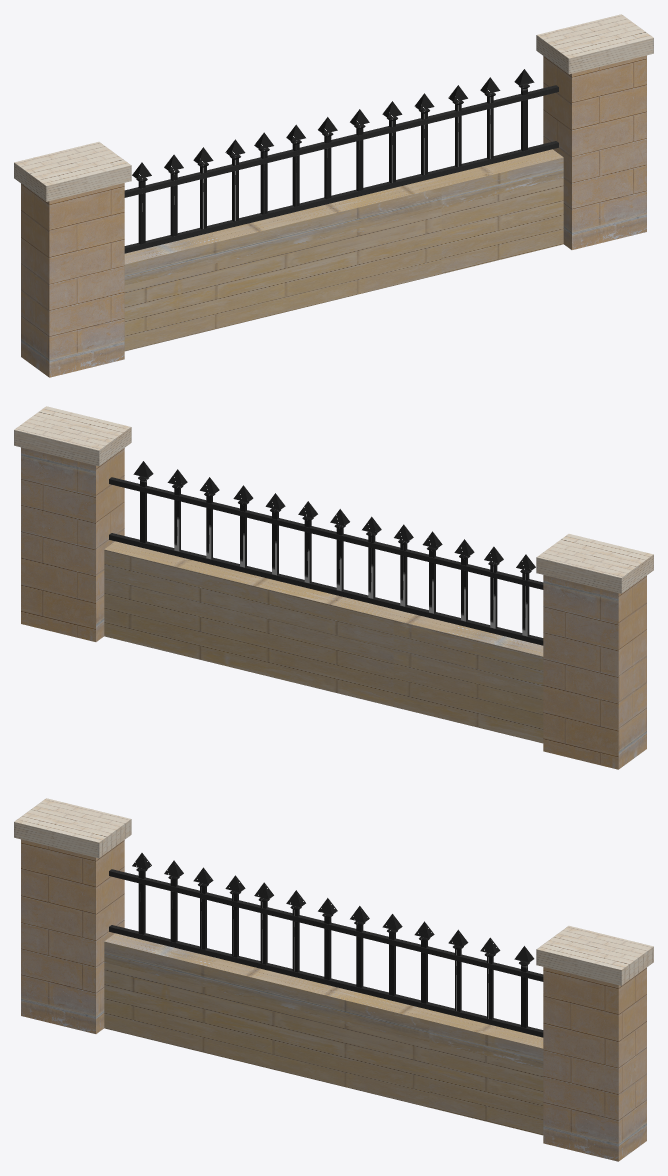
File: muro.obj
3 views of the same model, one above another, from view 1: azimuth 30°, elevation 25°; view 2: azimuth 150°, elevation 25°; view 3: azimuth 330°, elevation 25° (orthographic).
Parts seen in each view (by area): view 1: wall; view 2: wall; view 3: wall.
Boxes of the visible parts, x1,y1,x2,y2 form: wall: (14, 14, 653, 377); wall: (14, 406, 653, 769); wall: (14, 798, 653, 1161).
Bounding box in the file's own units: 30.5 × 9.32 × 2.81.
5 materials, 5 textured.
